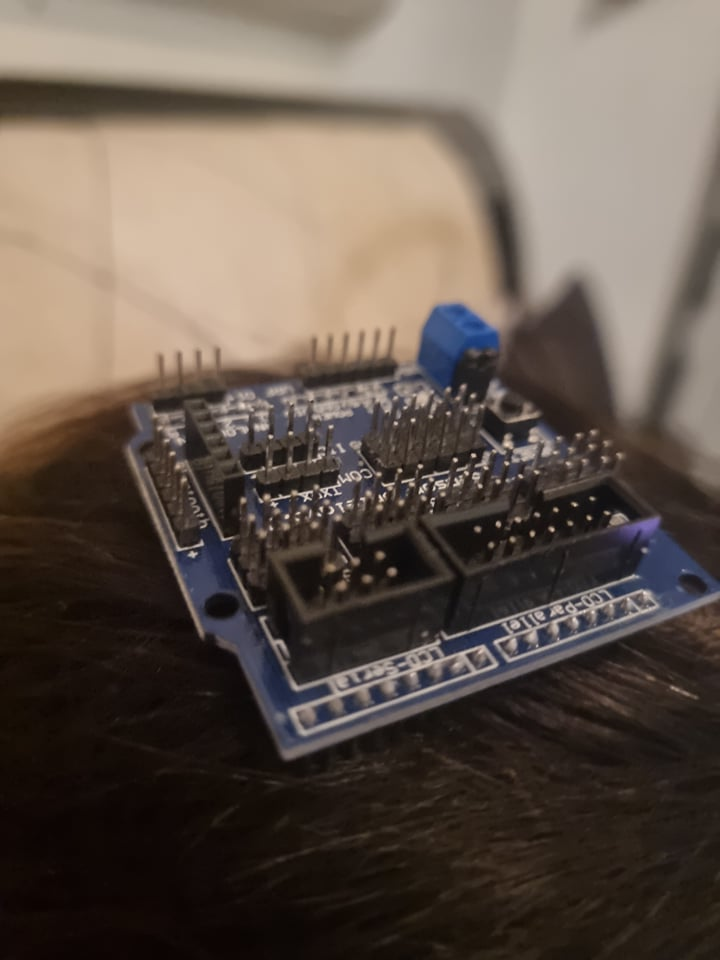5V EXPANSION: (120, 303, 720, 763)
